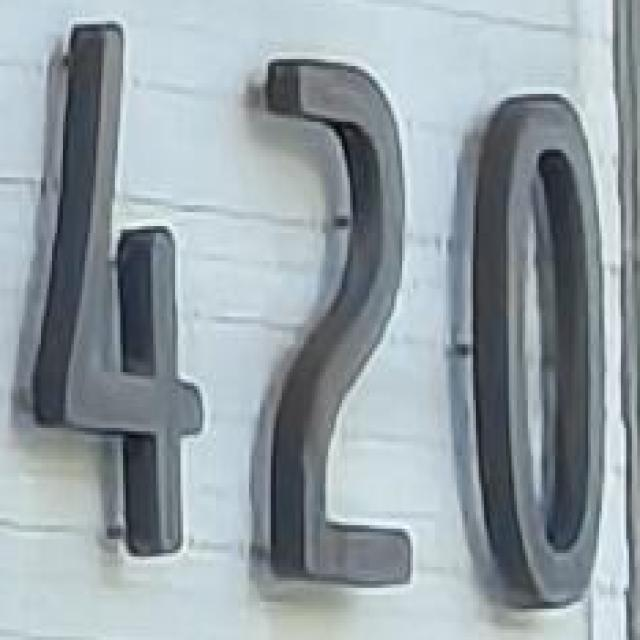character: (30, 12, 215, 574), (255, 47, 427, 596), (463, 84, 613, 612)
